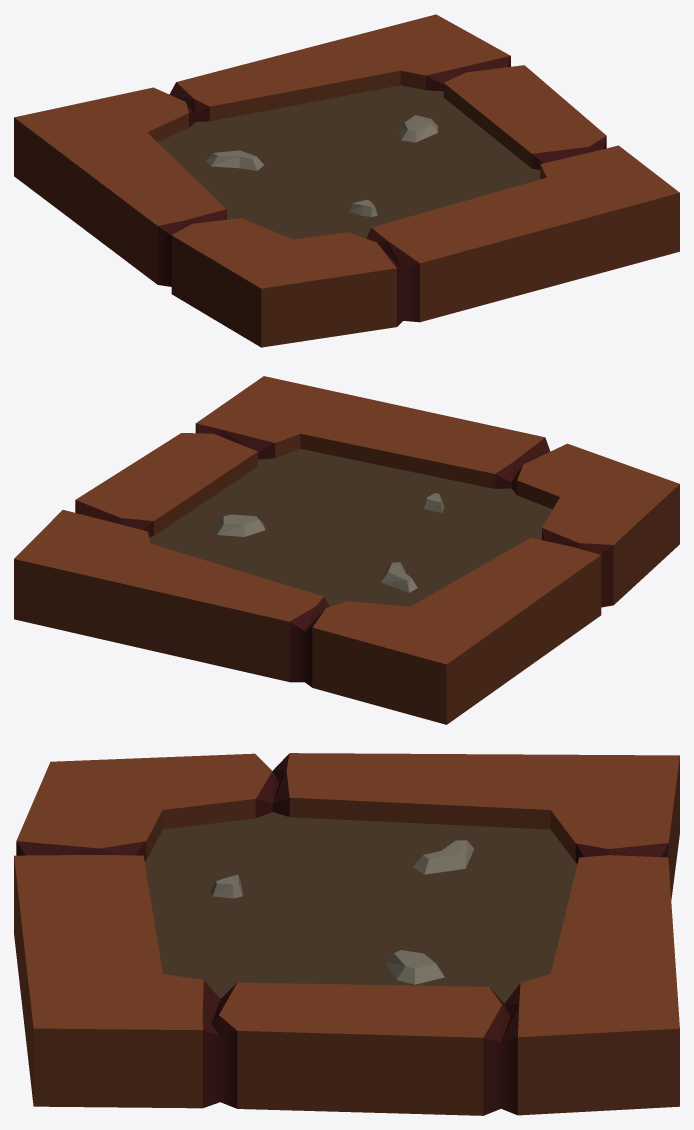
File: Tree_Ground_02.FBX
3 views of the same model, one above another, from view 1: azimuth 30°, elevation 25°; view 2: azimuth 150°, elevation 25°; view 3: azimuth 270°, elevation 25° (orthographic). The views are drawn at different scales.
Parts seen in each view (by area): view 1: Tree_Ground_02; view 2: Tree_Ground_02; view 3: Tree_Ground_02.
Boxes of the visible parts, x1,y1,x2,y2 form: Tree_Ground_02: (14,14,679,347); Tree_Ground_02: (14,376,679,724); Tree_Ground_02: (14,753,679,1115).
Size of the model in its own units: 1.56 by 0.2002 by 1.55.
